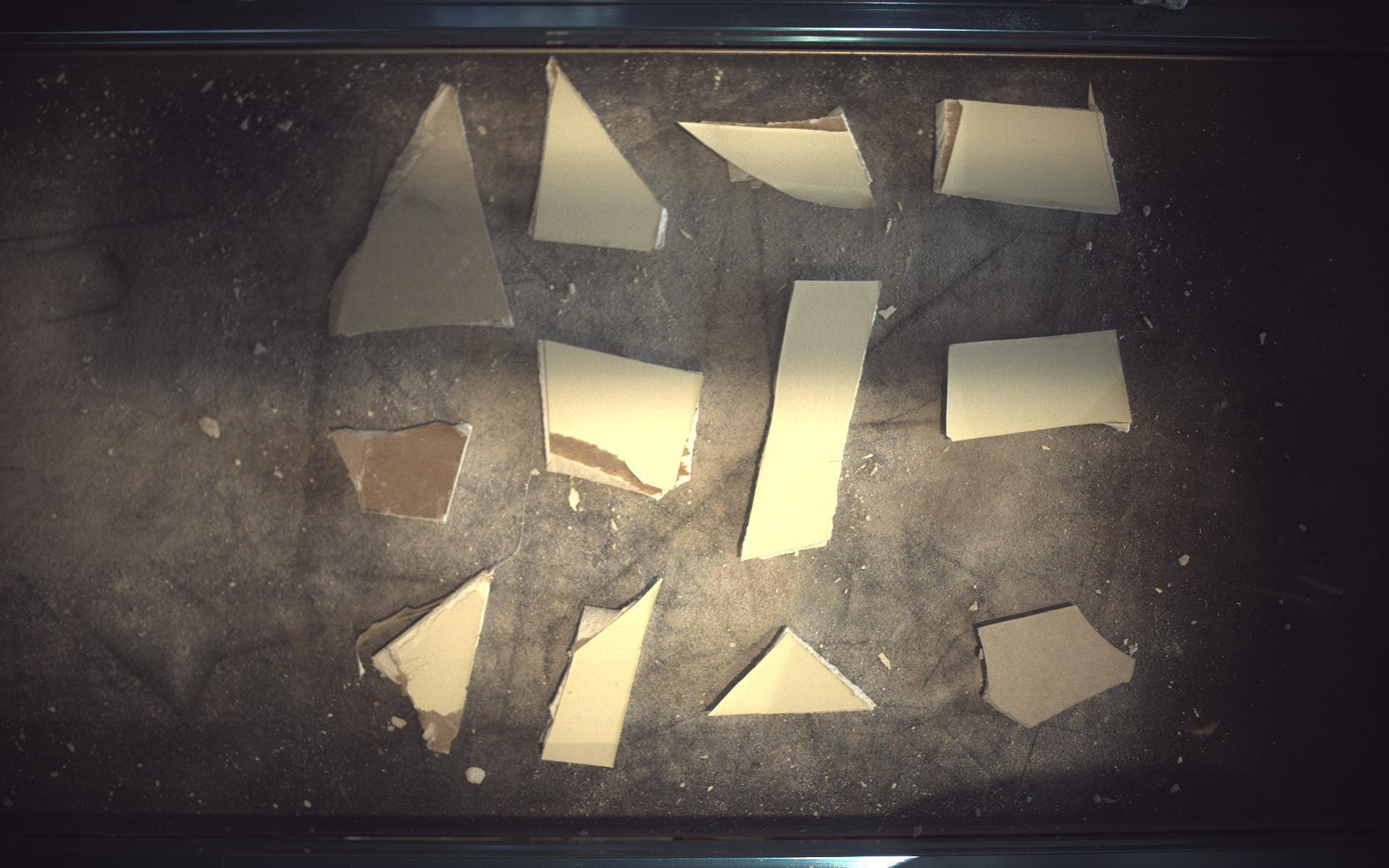gypsum_board: (330, 83, 514, 336), (742, 279, 882, 561), (529, 56, 669, 251), (539, 340, 704, 499), (355, 570, 493, 755), (541, 578, 663, 769), (935, 90, 1123, 213), (948, 330, 1134, 441), (680, 107, 876, 208), (980, 606, 1138, 728), (710, 628, 877, 717), (330, 422, 472, 523)
